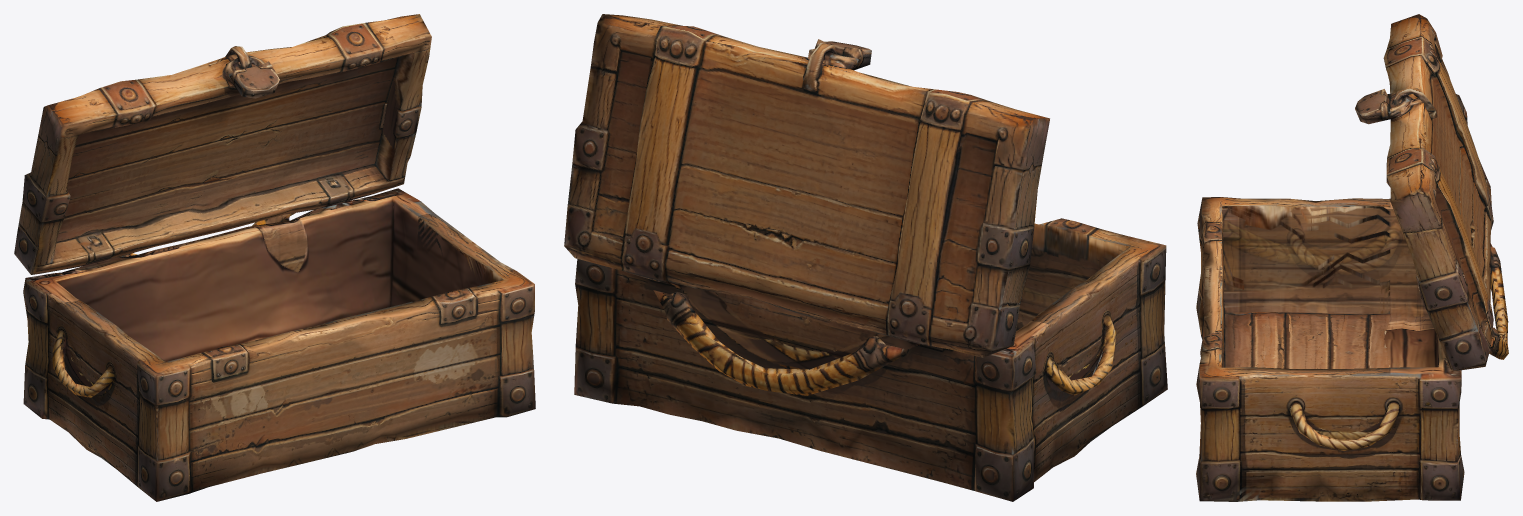
The model's file is Loot_WoodCrate_Open.fbx.
3 views of the same model, side by side, from view 1: azimuth 30°, elevation 25°; view 2: azimuth 150°, elevation 25°; view 3: azimuth 270°, elevation 25° (orthographic). The views are drawn at different scales.
Parts seen in each view (by area): view 1: texture_mapping; view 2: texture_mapping; view 3: texture_mapping.
Part boxes in pixels (x1,y1,x2,y2): texture_mapping: (14,14,535,501); texture_mapping: (564,14,1167,501); texture_mapping: (1196,14,1508,501).
Size of the model in its own units: 0.9972 by 0.6762 by 0.7815.
Materials: 1 (1 with a texture image).
